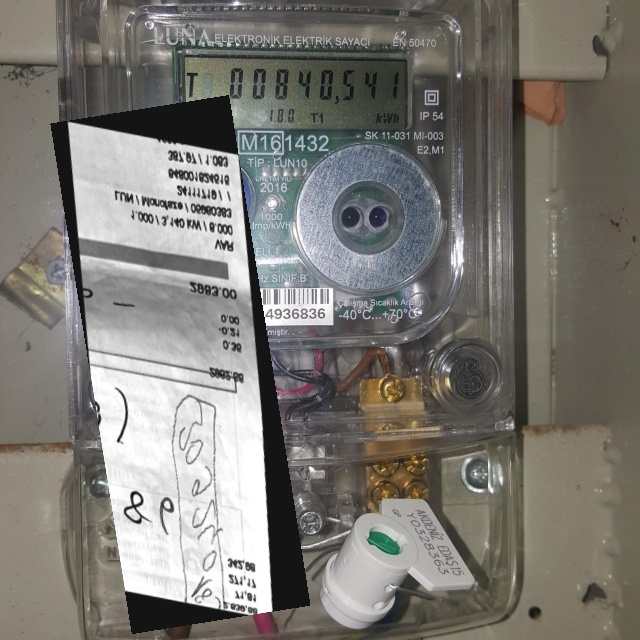electricity-bill: (50, 95, 310, 633)
